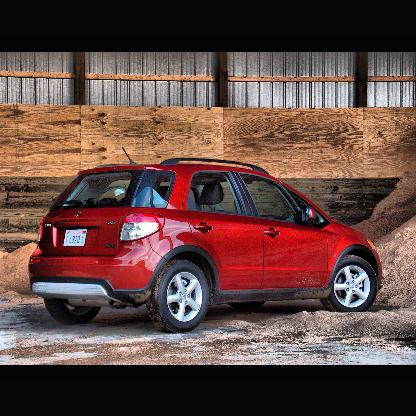Suzuki SX4 Hatchback 2012: (30, 146, 385, 333)
